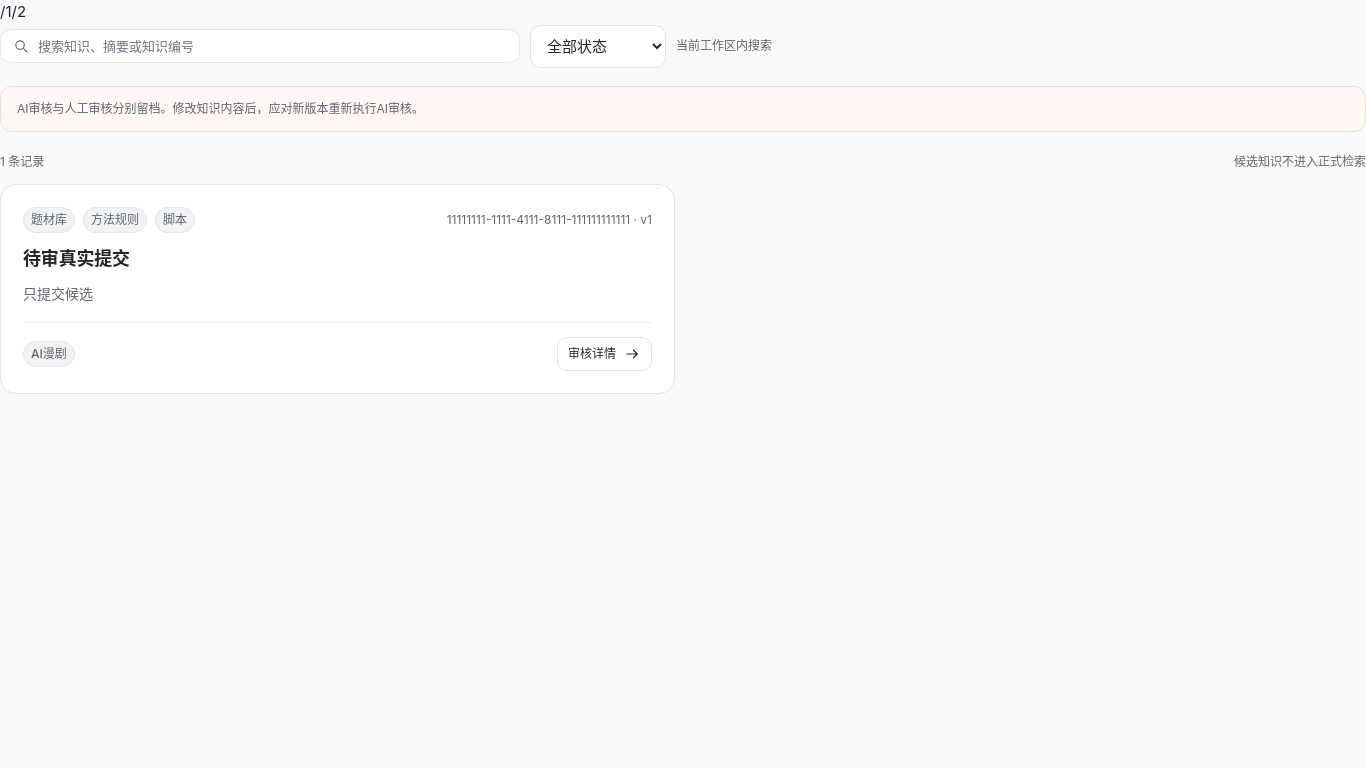
it: 打开的候选已被修订时不悄悄改审新版本，也不允许用旧审核发布
Step 1. Click the button "审核详情" → click(604, 354), box [557,337,652,371]
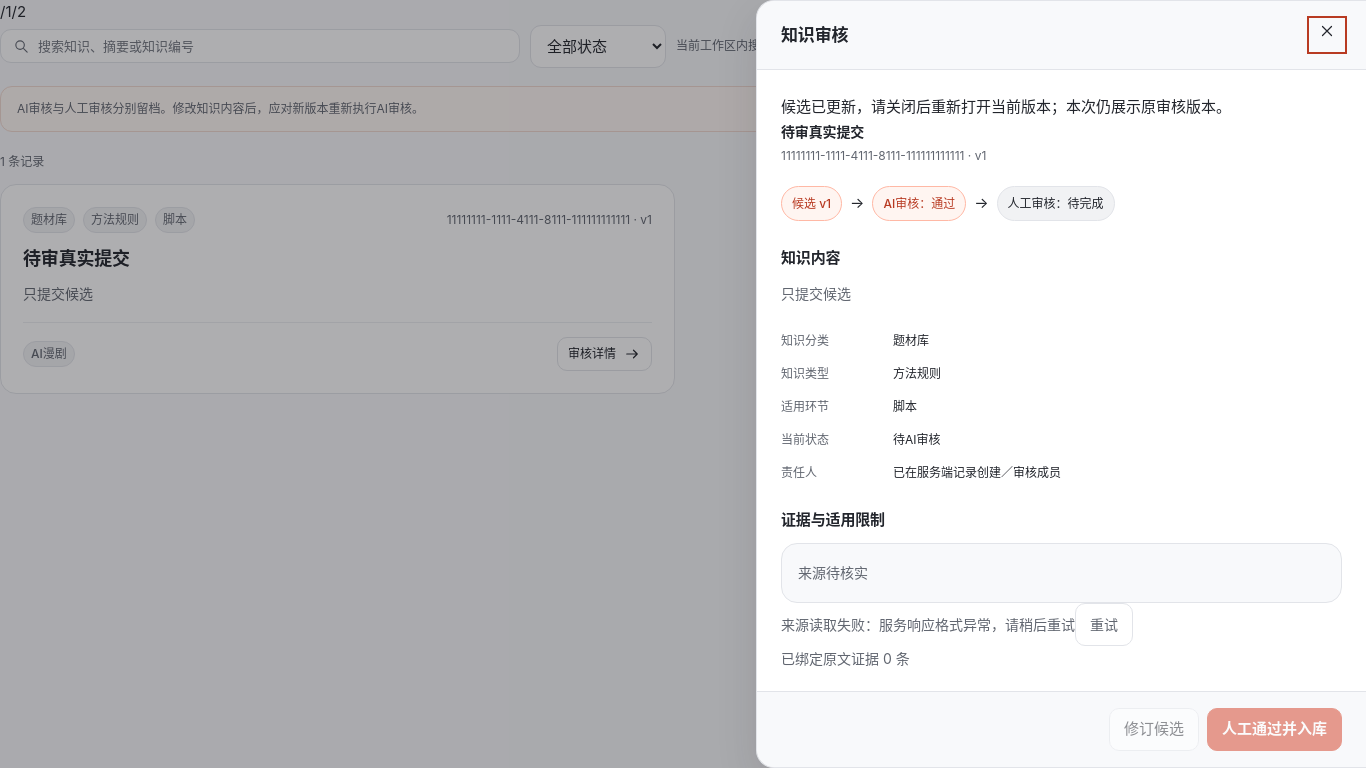
Check: the 1st text "只提交候选" is shown, box [23,285,93,302]
Check: the text "候选已更新，请关闭后重新打开当前版本；本次仍展示原审核版本。" is shown, box [781,97,1231,116]
Check: the button "人工通过并入库" is disabled, box [1207,708,1342,751]
